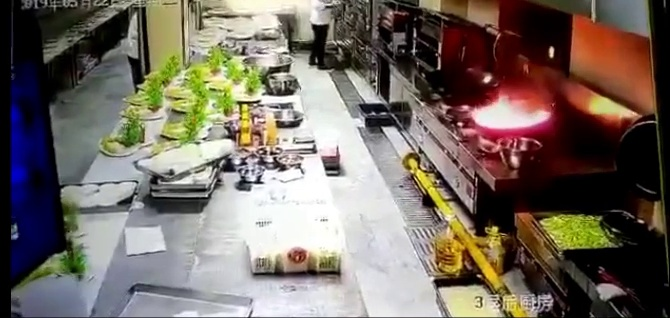fire: (480, 88, 547, 131)
